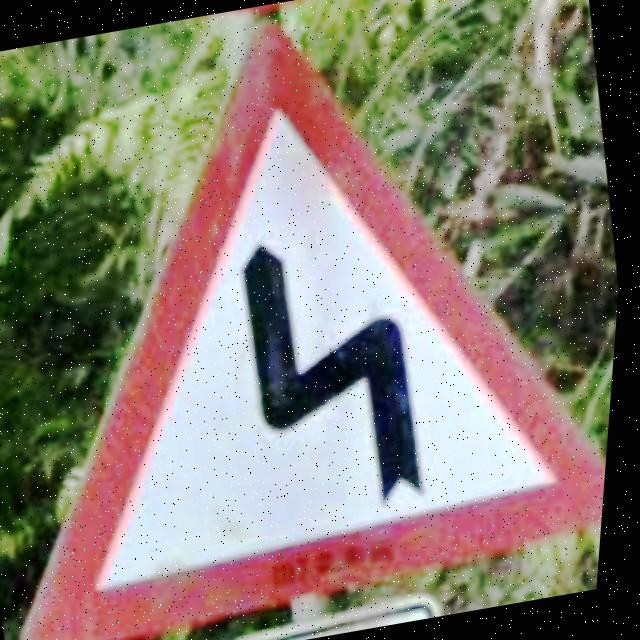doublebendleft: (31, 24, 613, 640)
